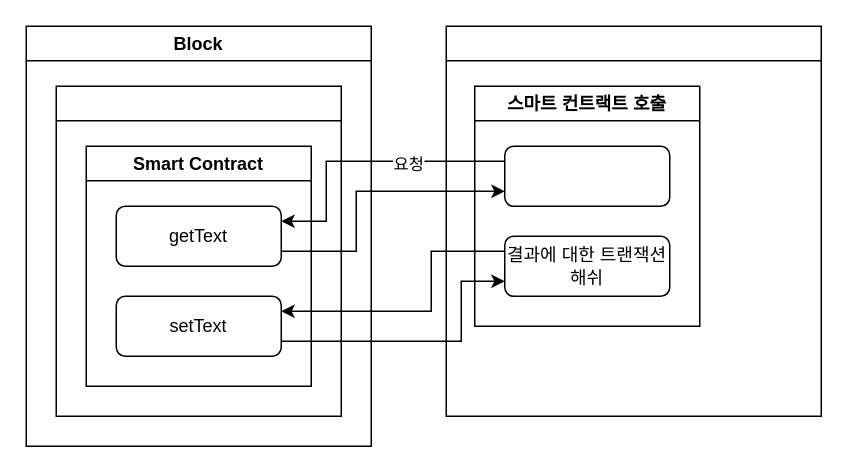
Some shapes in this 848 by 473 pixel diagram are drawn without their labels. Each missing label, with the box of its shape:
getText의 값: (503, 145, 670, 206)
Transaction: (55, 85, 341, 416)
어떤 유저(지갑 계정): (445, 25, 821, 416)
